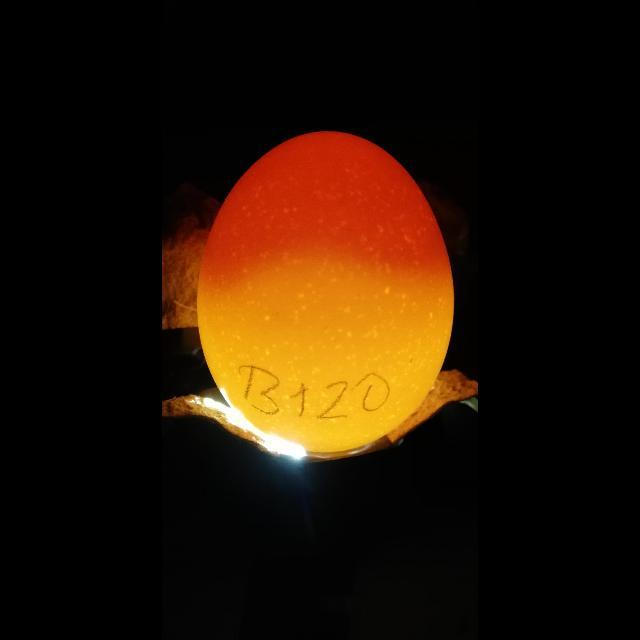Fertile: (194, 113, 456, 460)
